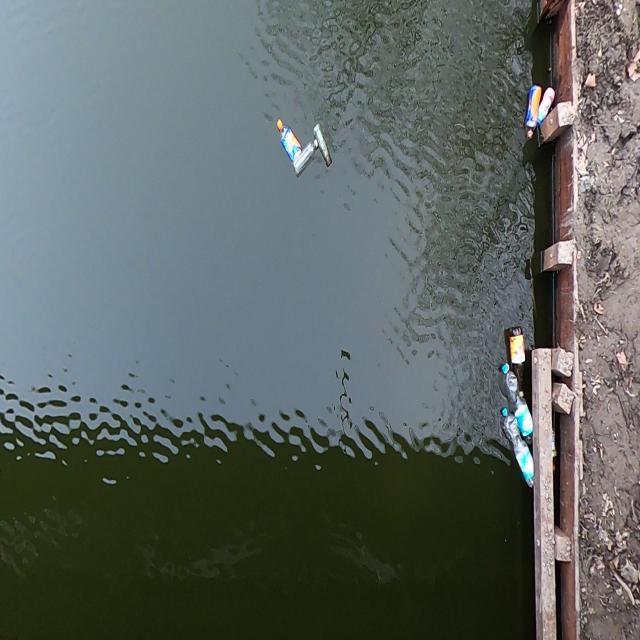Bouteille plastique: (495, 401, 535, 502), (494, 354, 536, 445), (267, 103, 304, 177), (502, 317, 528, 400), (286, 131, 323, 189), (311, 110, 339, 171), (519, 80, 543, 147), (538, 77, 560, 132)
